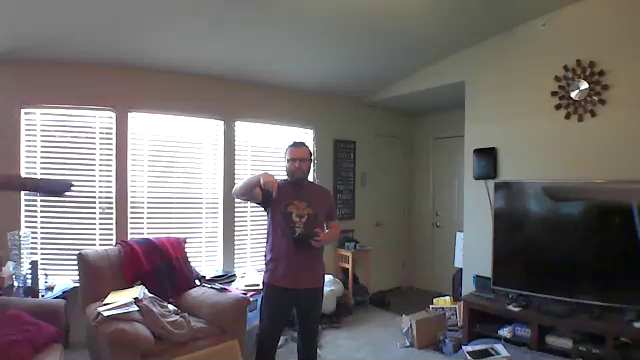down: (258, 168, 281, 207)
